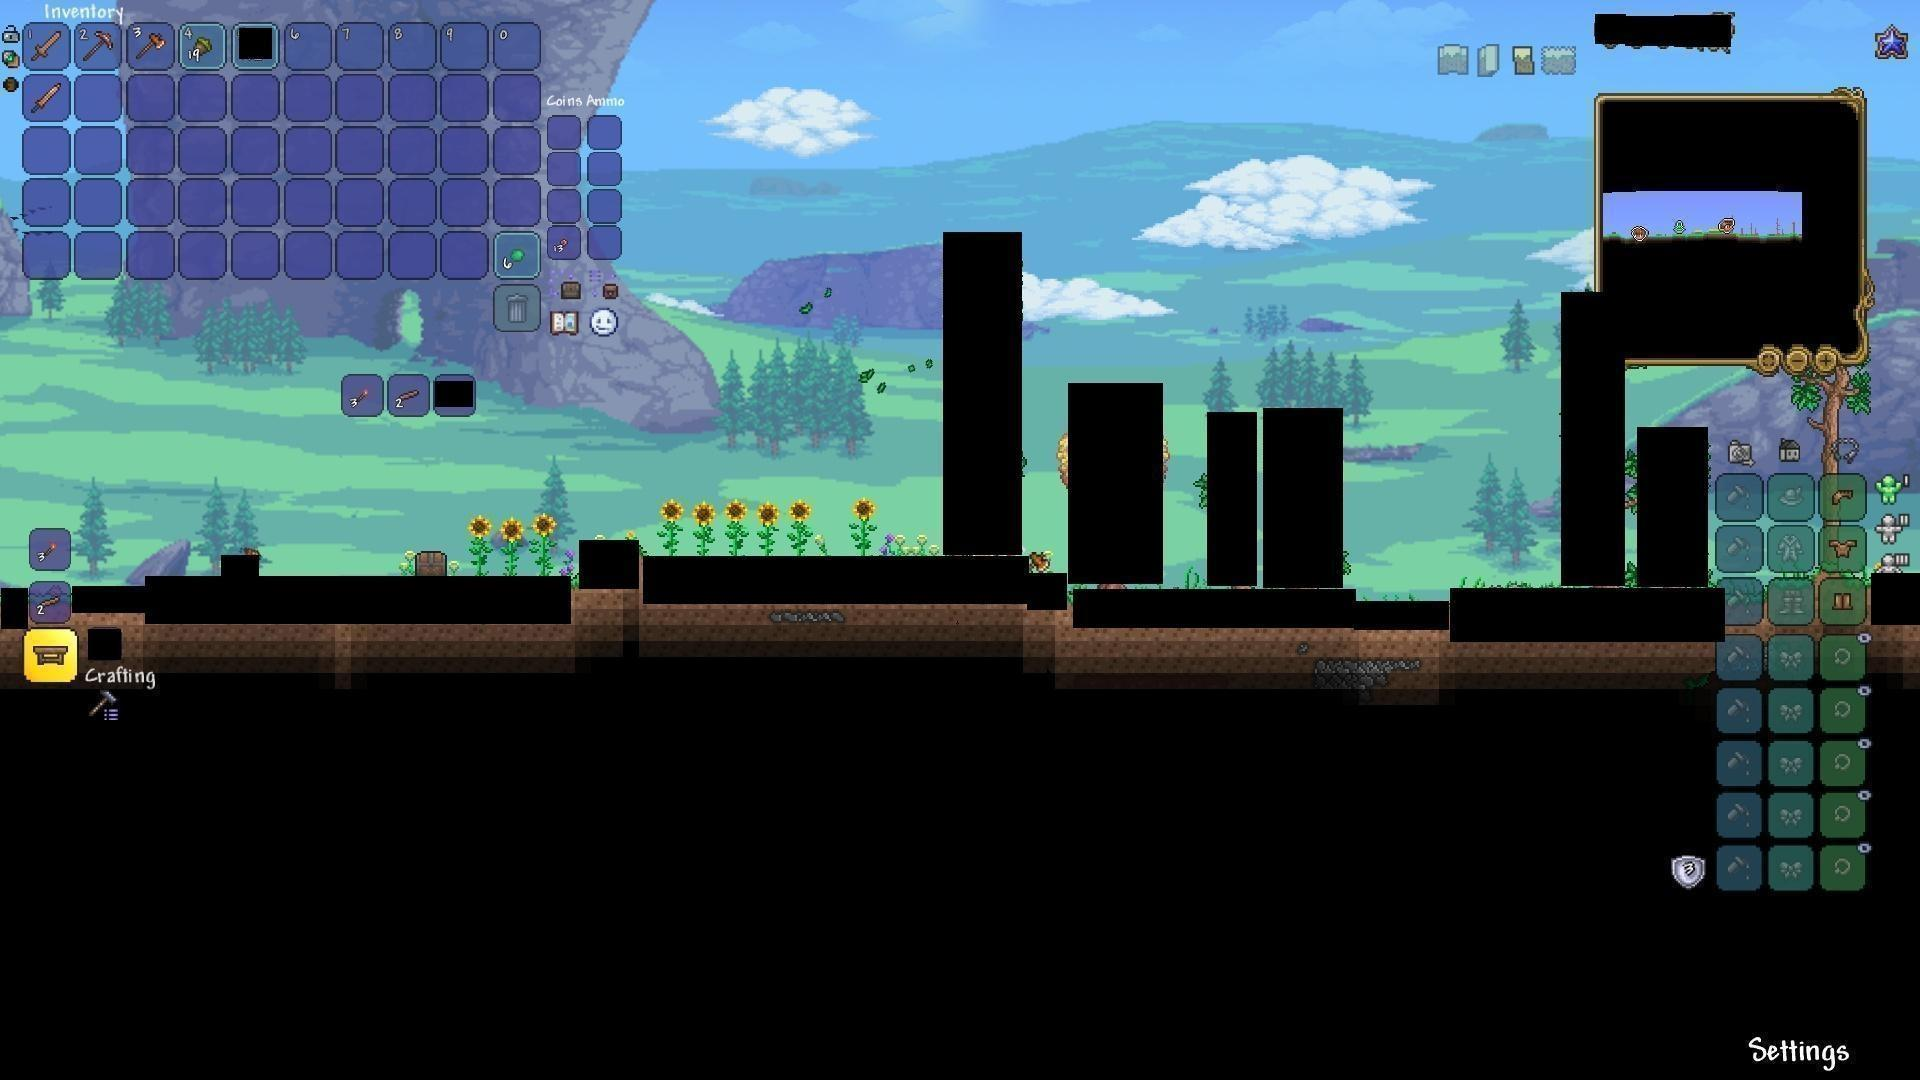breastplate: (1832, 538, 1859, 559)
helmet: (1830, 487, 1859, 512)
legs: (1832, 588, 1857, 615)
workbench: (36, 645, 65, 669)
